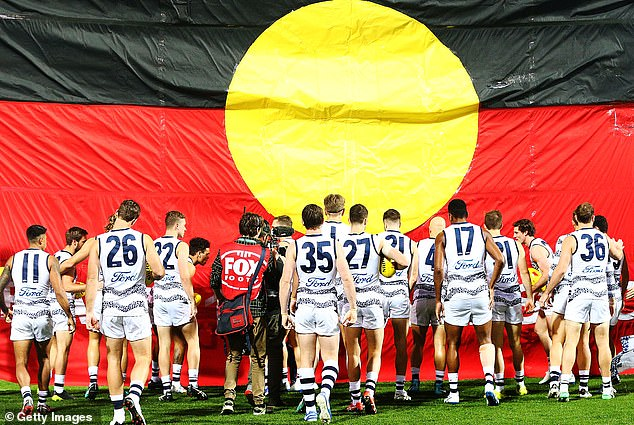aboriginal_flag: (1, 1, 633, 381)
